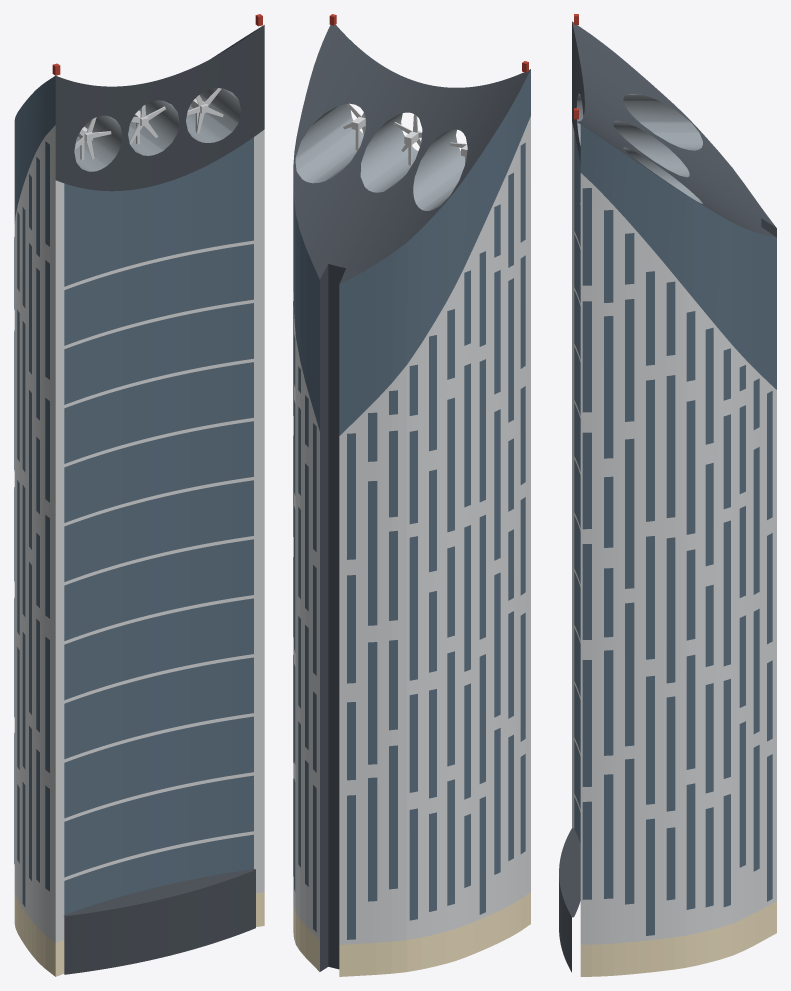
The model's file is london-strata.glb.
The picture shows the model from 3 angles, left to right: view 1: azimuth 30°, elevation 25°; view 2: azimuth 150°, elevation 25°; view 3: azimuth 270°, elevation 25°; orthographic projection. The views are drawn at different scales.
Parts seen in each view (by area): view 1: Strata SE1; view 2: Strata SE1; view 3: Strata SE1.
Part boxes in pixels (x1=…): Strata SE1: x1=14, y1=14, x2=264, y2=976; Strata SE1: x1=293, y1=14, x2=530, y2=976; Strata SE1: x1=559, y1=14, x2=776, y2=976.
Bounding box in the file's own units: 35.64 × 148 × 33.7.
